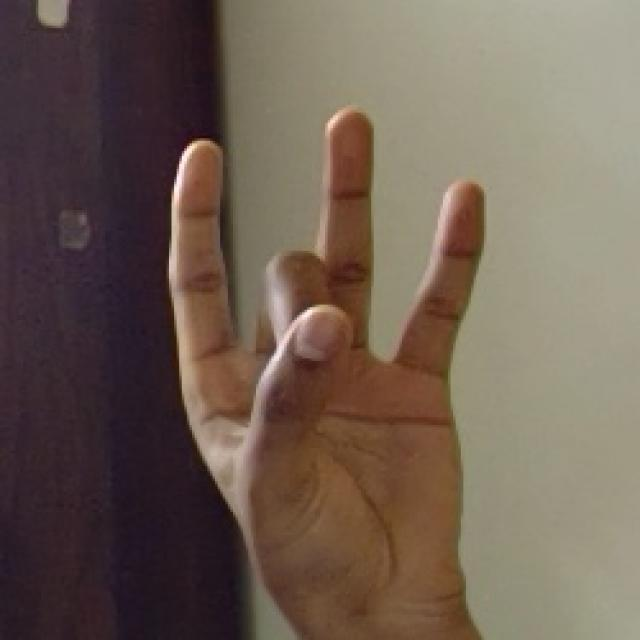Numeric-8: (153, 98, 500, 614)
